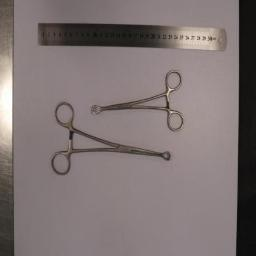Babcock Tissue Forceps: (86, 70, 184, 134)
